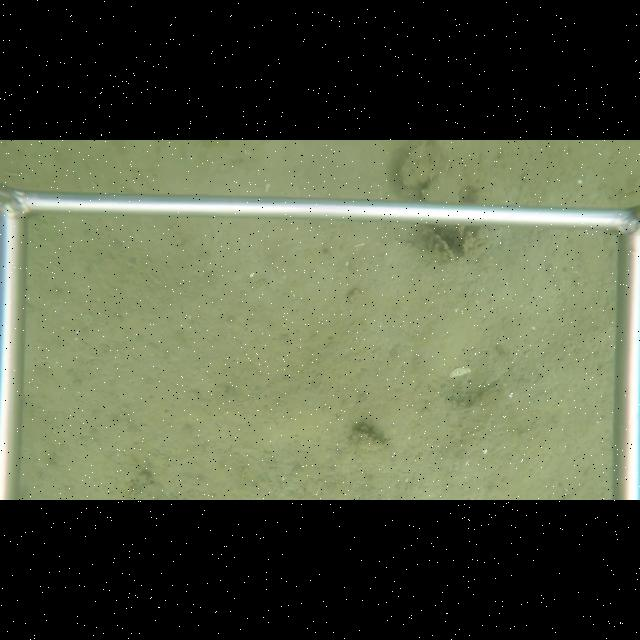Oyster-Closed: (395, 142, 448, 189), (418, 173, 466, 202), (349, 427, 390, 450)
